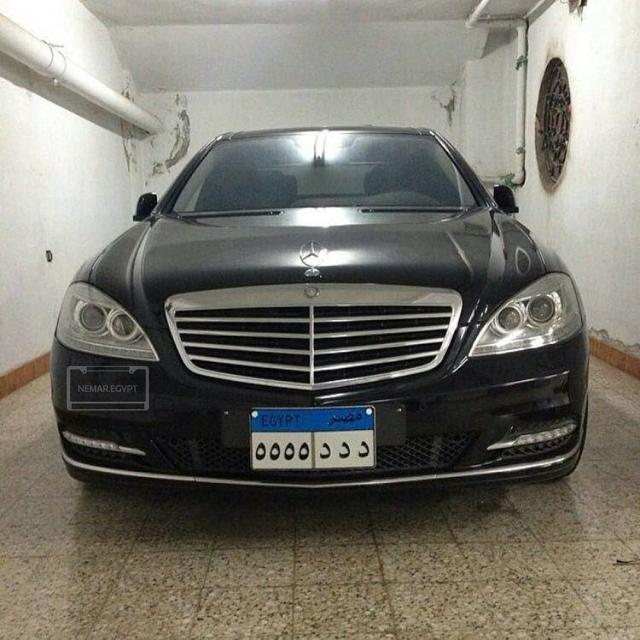License Plate: (245, 403, 382, 474)
